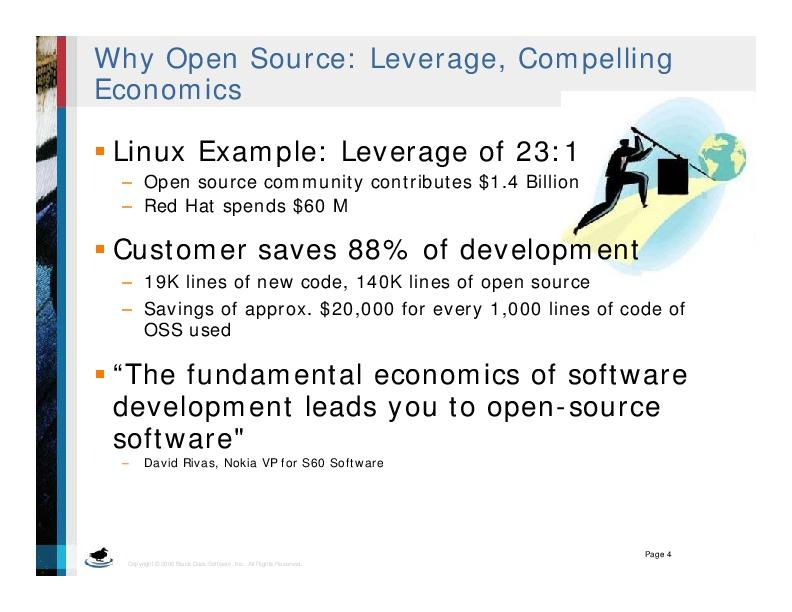paragraph: (92, 125, 757, 520)
title: (88, 40, 728, 109)
